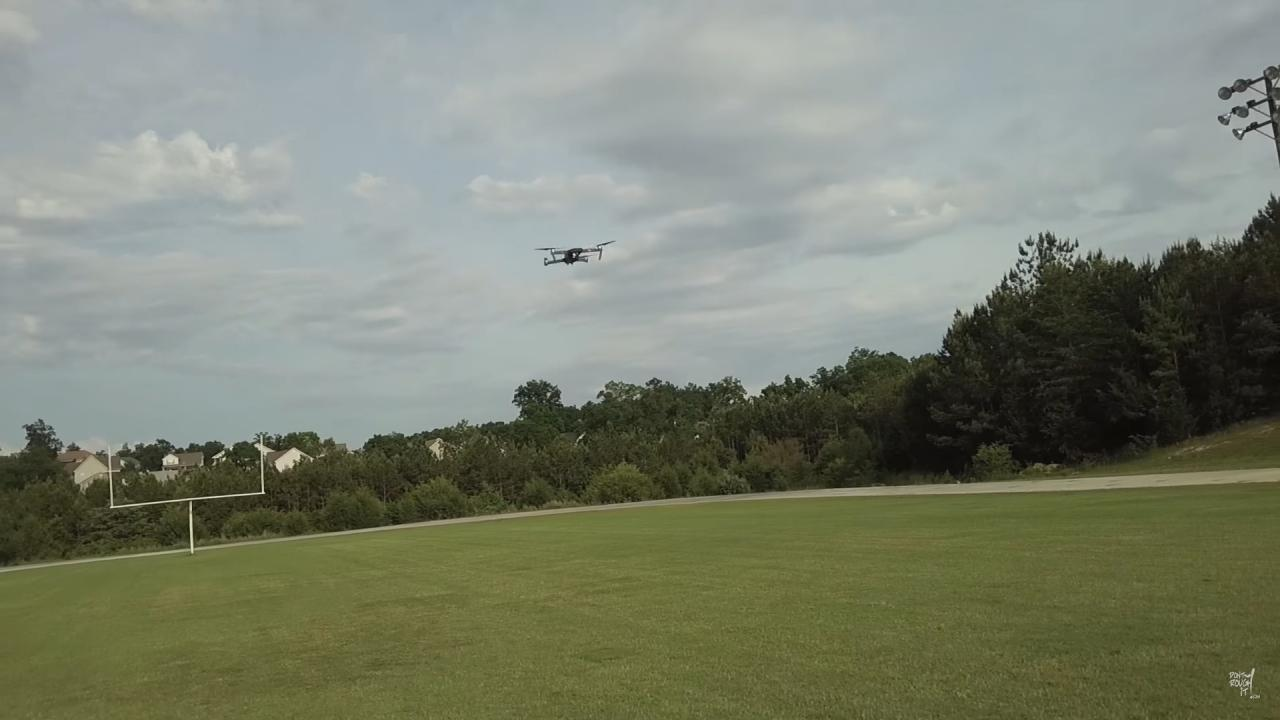Drone: (527, 229, 625, 282)
